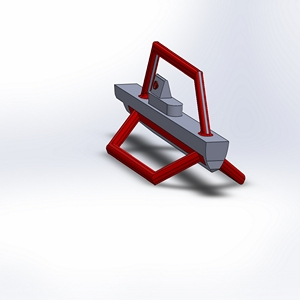submarine: (68, 21, 265, 204)
